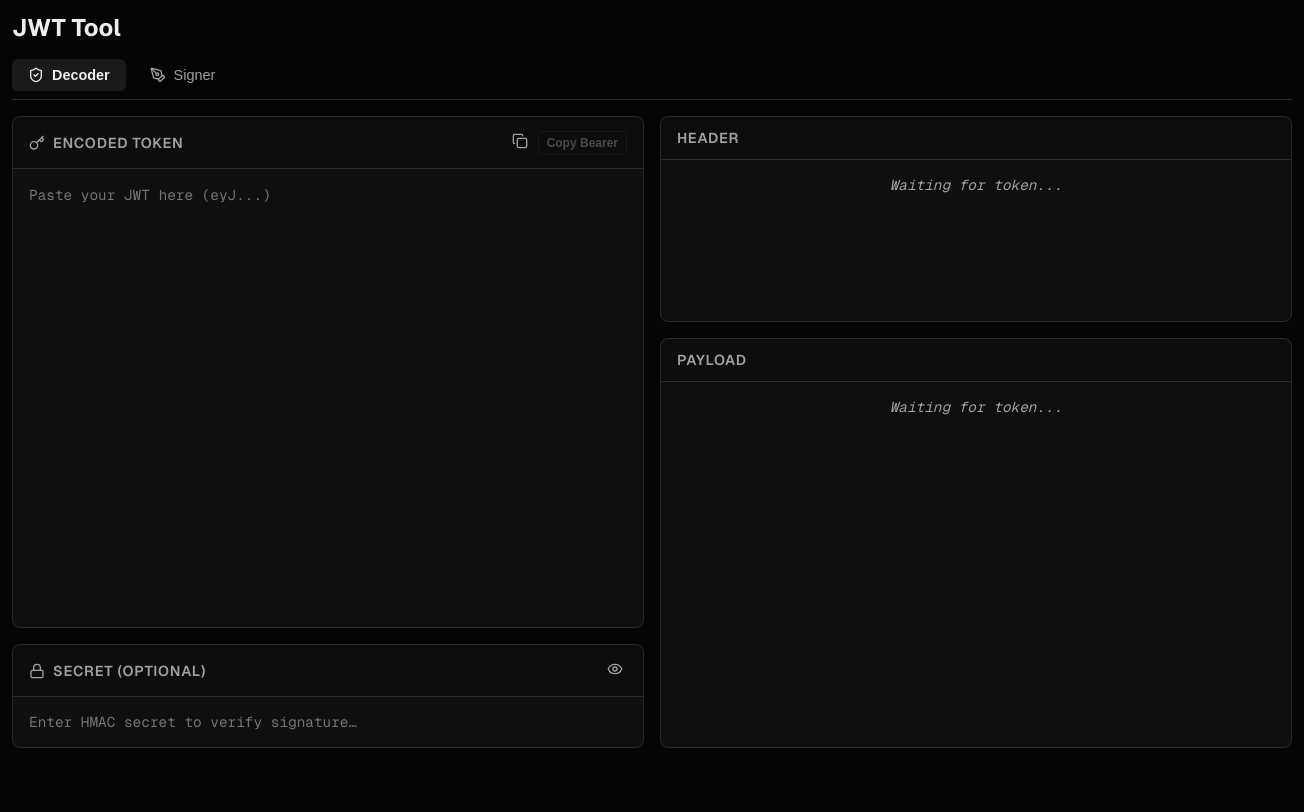
Test: JwtTool › switches to signer tab
The width and height of the screenshot is (1304, 812).
Click the tab "Signer".
click(182, 75)  # box [134, 59, 231, 91]
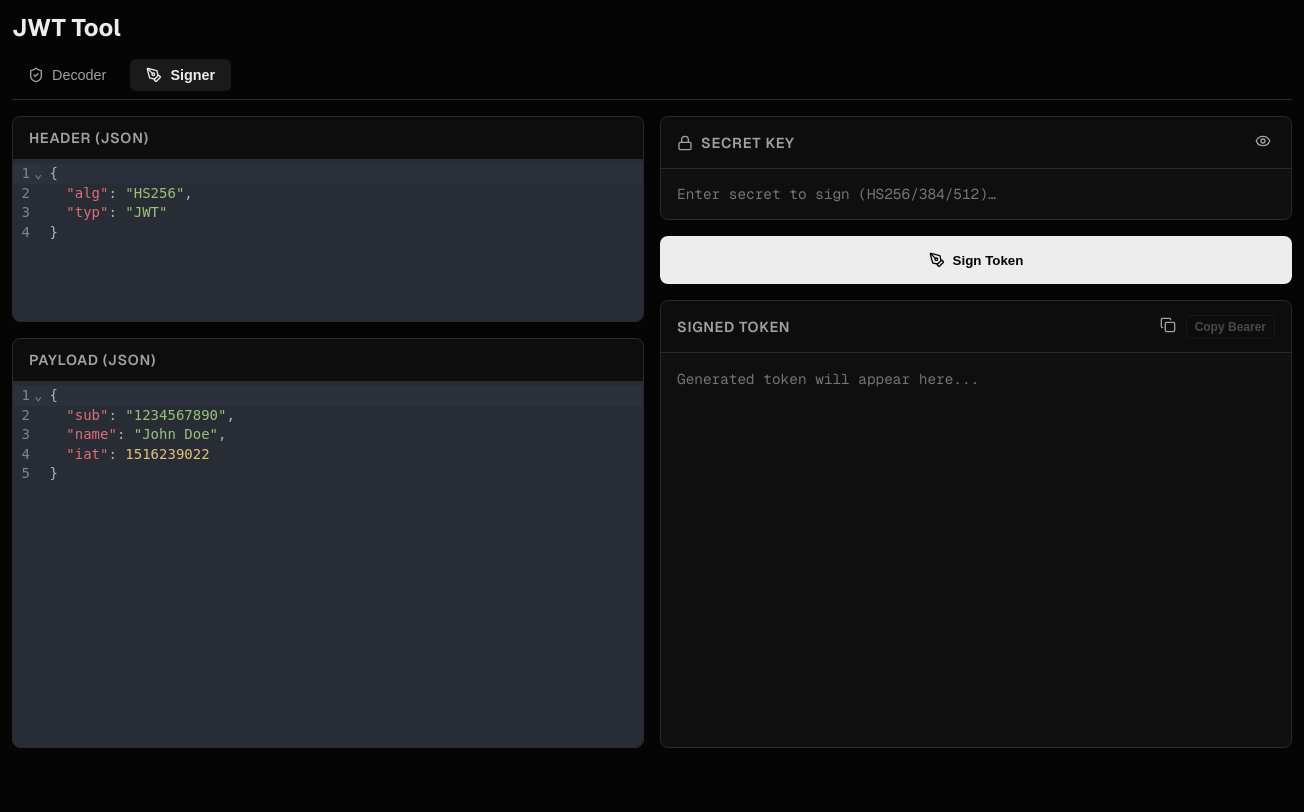
Expected: the text "Secret Key" is shown, [677, 134, 795, 152]
Expected: the button "Sign Token" is shown, [660, 236, 1292, 284]
